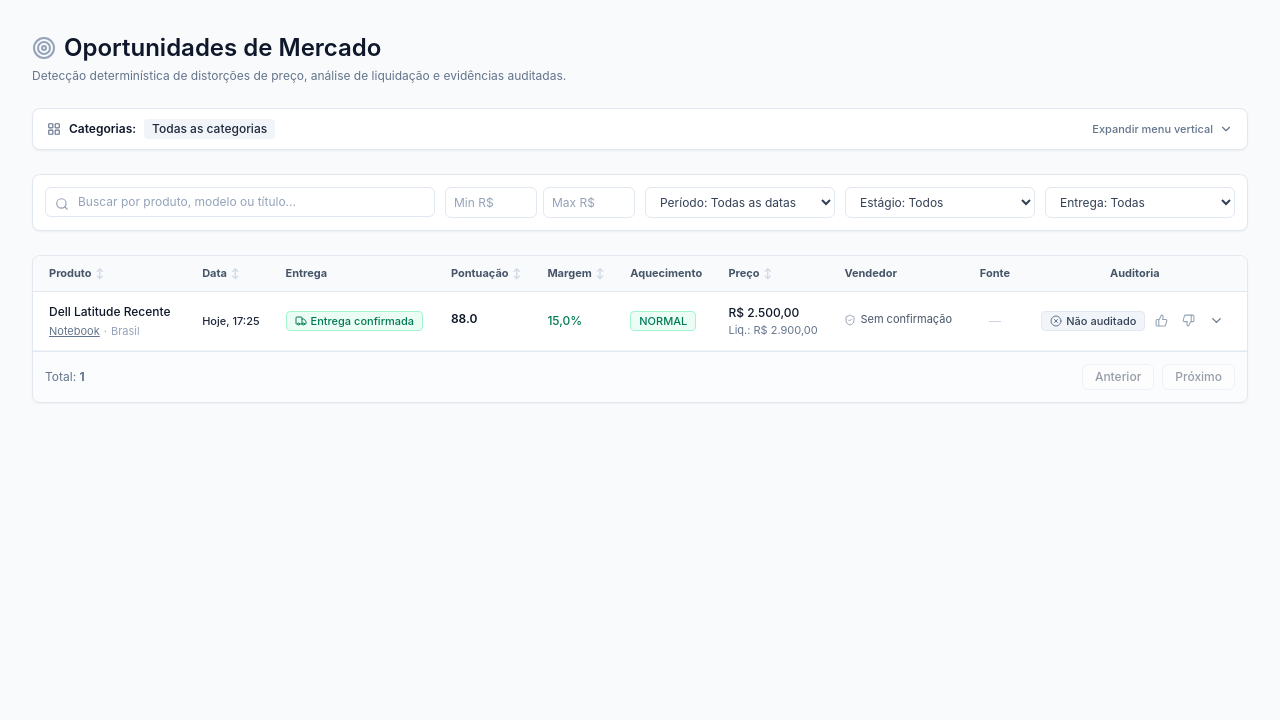
Test: feedback de oportunidades › filters by date recency, cycles 3-state date sort, and toggles collapsible vertical category menu
Expected: the text "Dell Latitude Recente" is shown, [49,304,174,320]
Expected: the text "Hoje, 17:25" is shown, [202,314,260,328]
Select "Últimas 24h (Hoje)" in the dropdown named "Filtrar por data" at (740, 202), box [645,187,835,218]
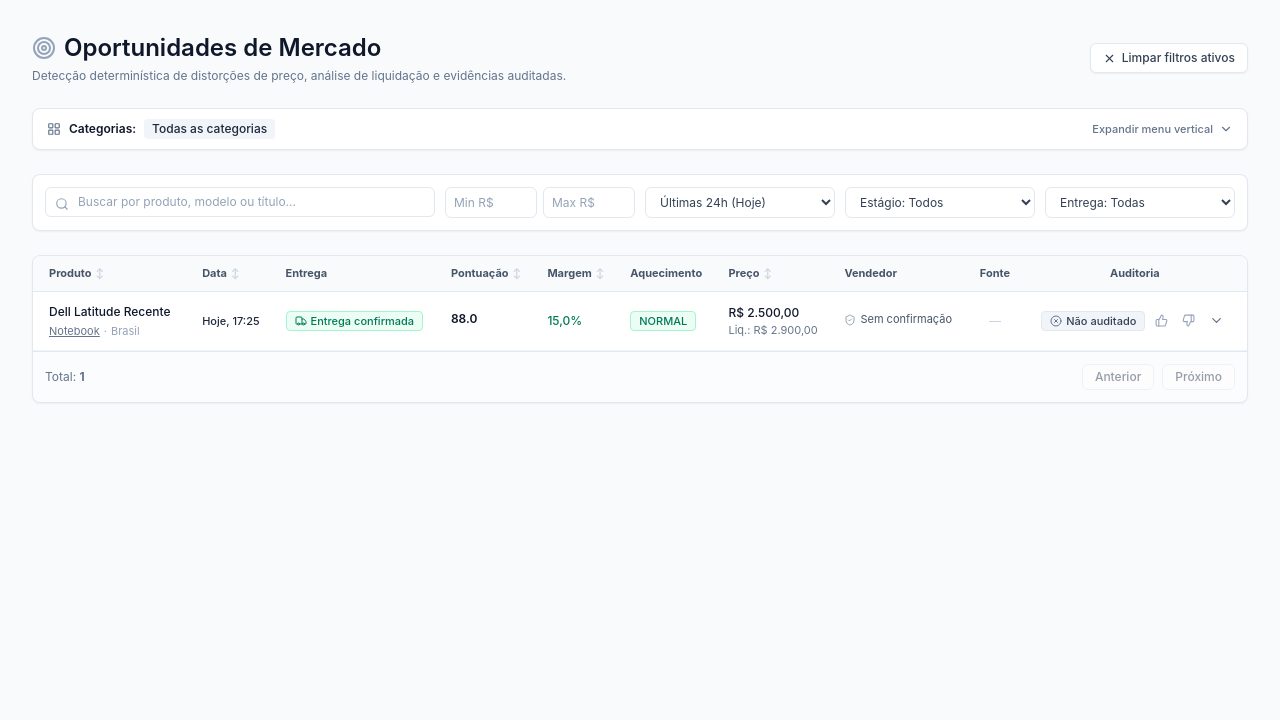
# 1st click: date_desc (mais recentes primeiro)
Click the column heading "Data ↕" at (232, 274), box [190,256,274,291]
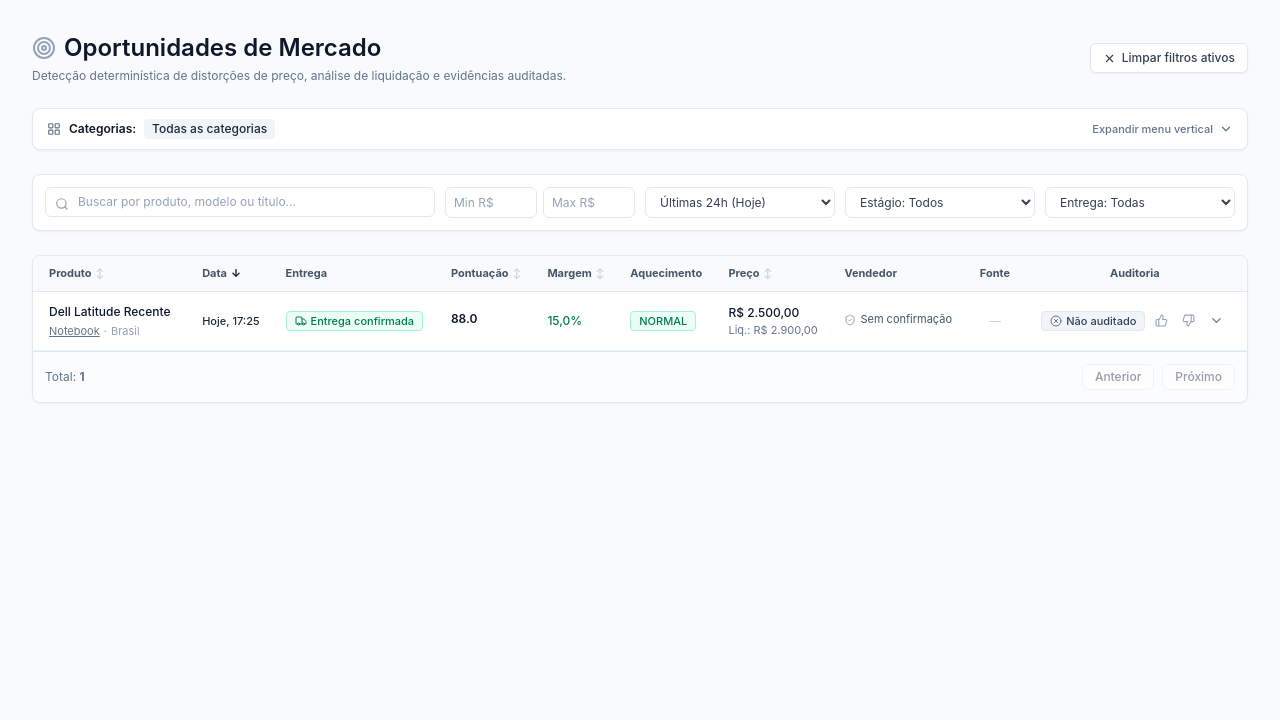
# 2nd click: date_asc (mais antigas primeiro)
Click the column heading "Data ↓" at (232, 274), box [190,256,274,291]
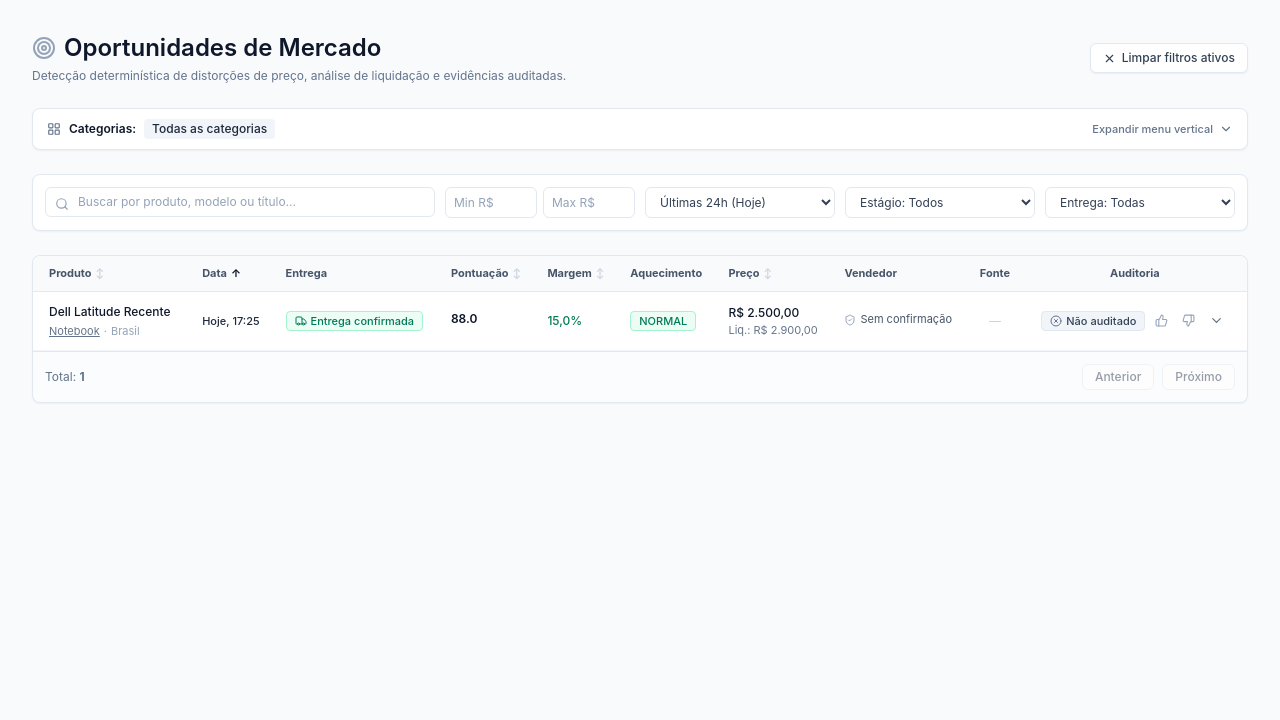
# 3rd click: resets to default (score_desc)
Click the column heading "Data ↑" at (232, 274), box [190,256,274,291]
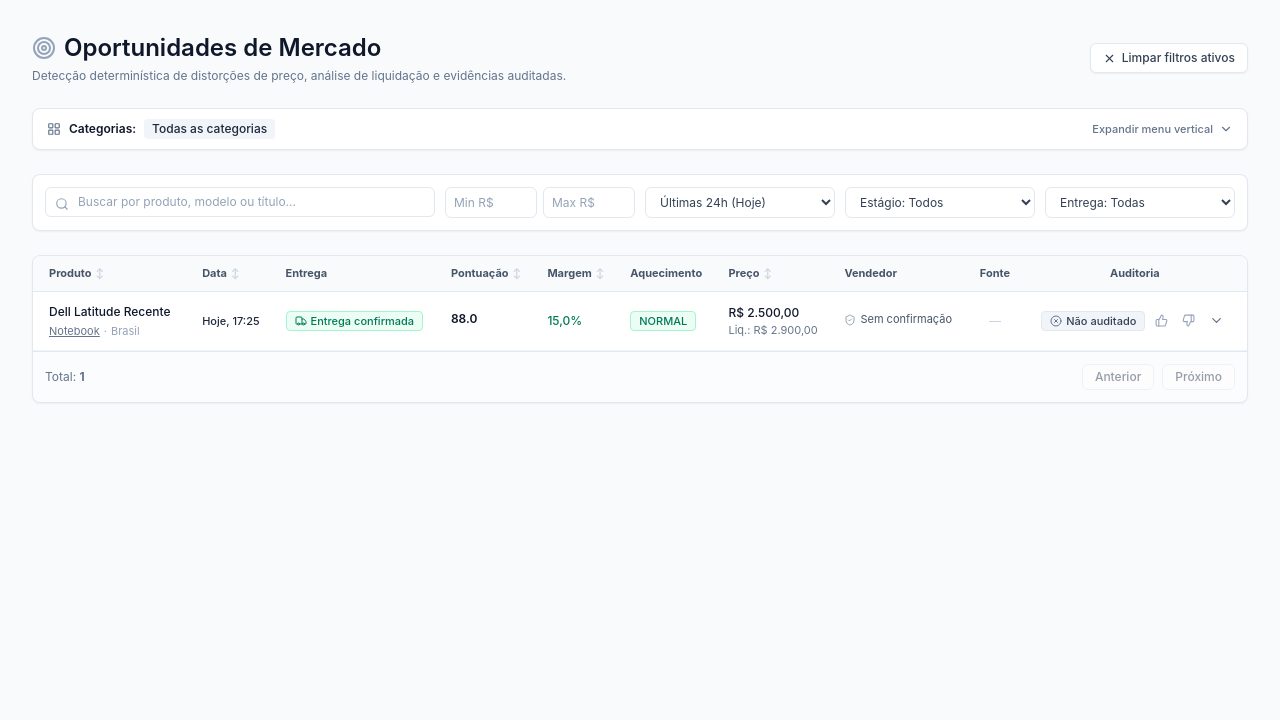
Click the button "Categorias: Todas as categorias Expandir menu vertical" at (103, 128), box [33,109,1247,149]
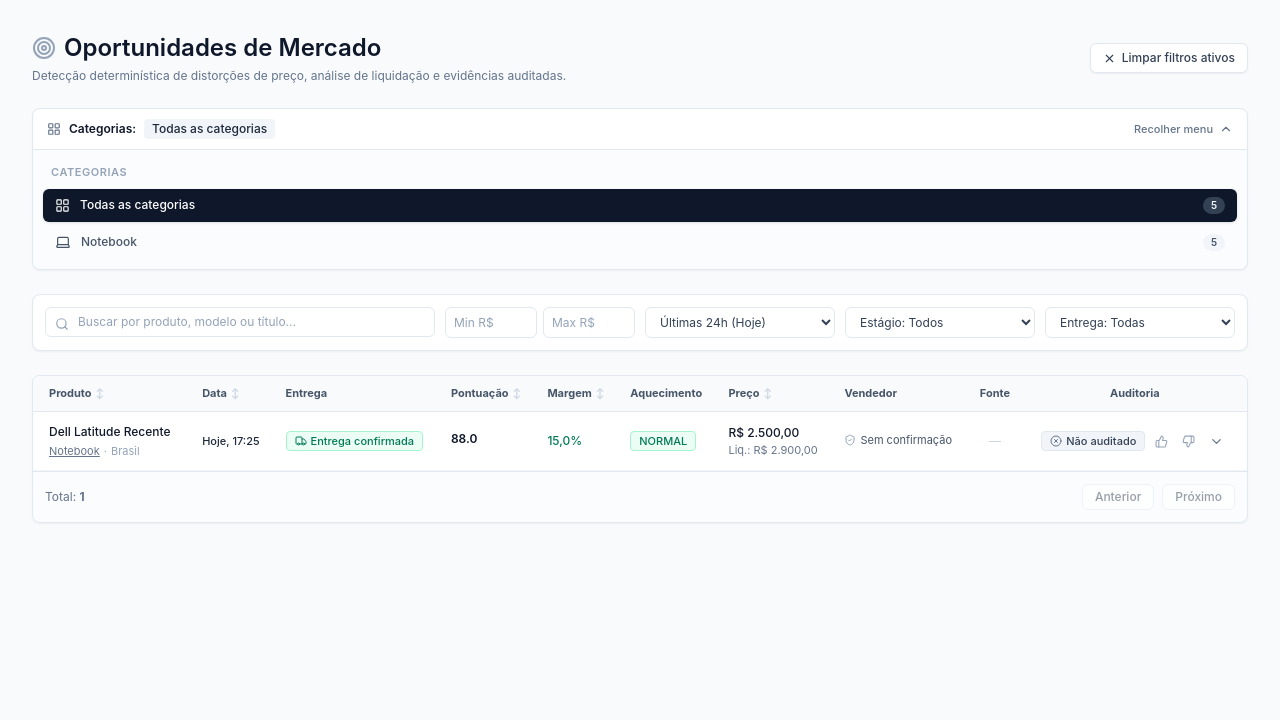
Expected: the button "Categorias: Todas as categorias Recolher menu" is expanded
Click the button "Categorias: Todas as categorias Recolher menu" at (103, 128), box [33,109,1247,149]
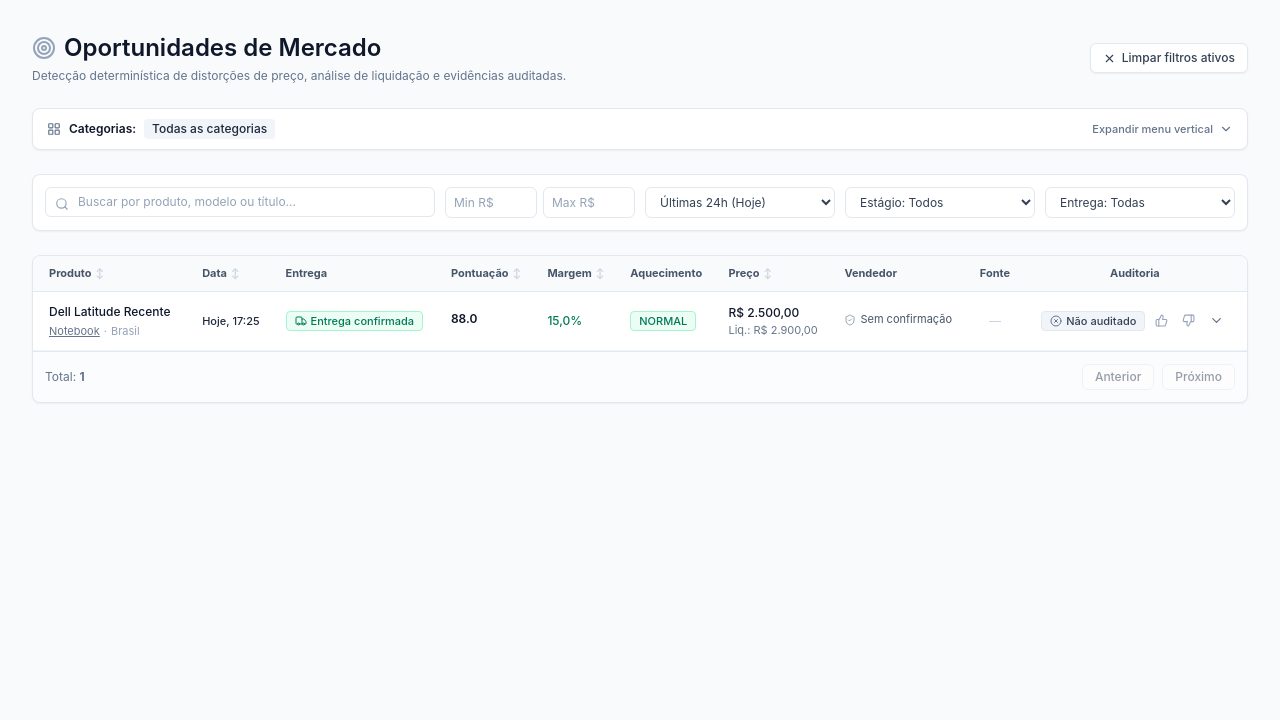
Expected: the button "Categorias: Todas as categorias Expandir menu vertical" is collapsed, [33,109,1247,149]
